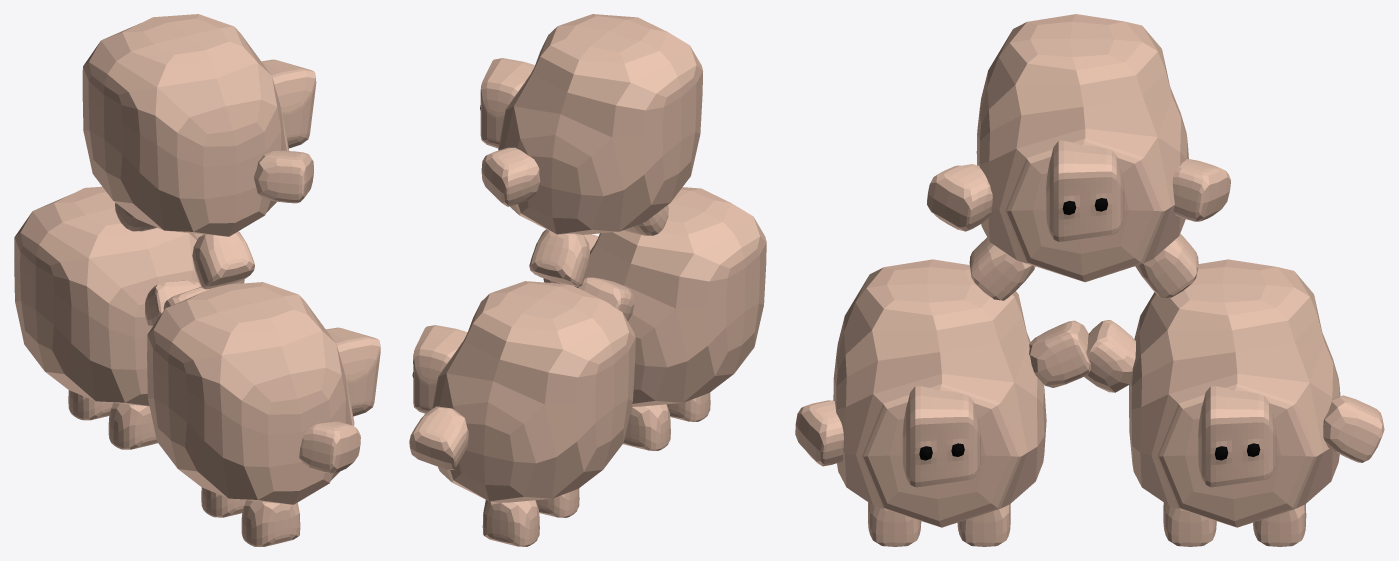
File: 3rockboss.fbx
3 renders of one model, left to right at view 1: azimuth 30°, elevation 25°; view 2: azimuth 150°, elevation 25°; view 3: azimuth 270°, elevation 25°, orthographic. The views are drawn at different scales.
Visible parts, largest first — view 1: Right Arm .002; view 2: Right Arm .002; view 3: Right Arm .002.
Part boxes in pixels (x1,y1,x2,y2): Right Arm .002: [14, 14, 380, 546]; Right Arm .002: [409, 14, 766, 546]; Right Arm .002: [795, 14, 1384, 546].
Size of the model in its own units: 678 by 1435 by 1541.
